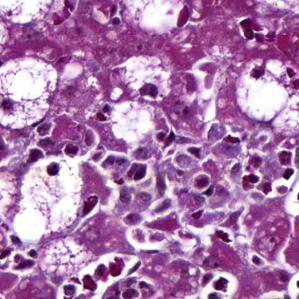ballooning: (4, 55, 61, 132)
